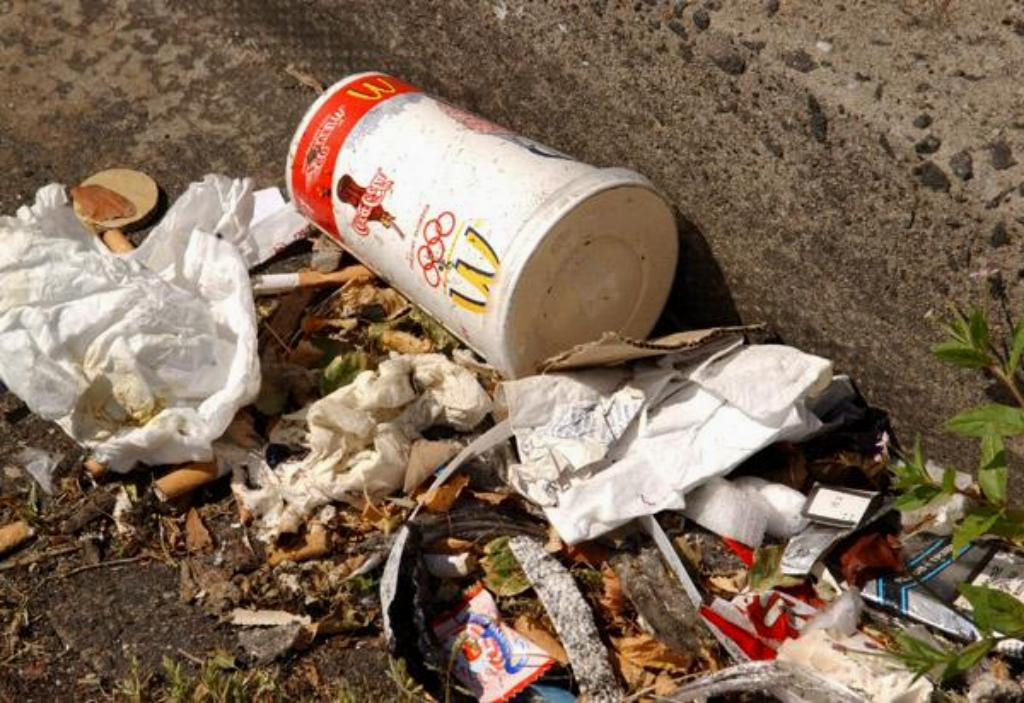garbage: (283, 70, 677, 380), (0, 208, 261, 471)
